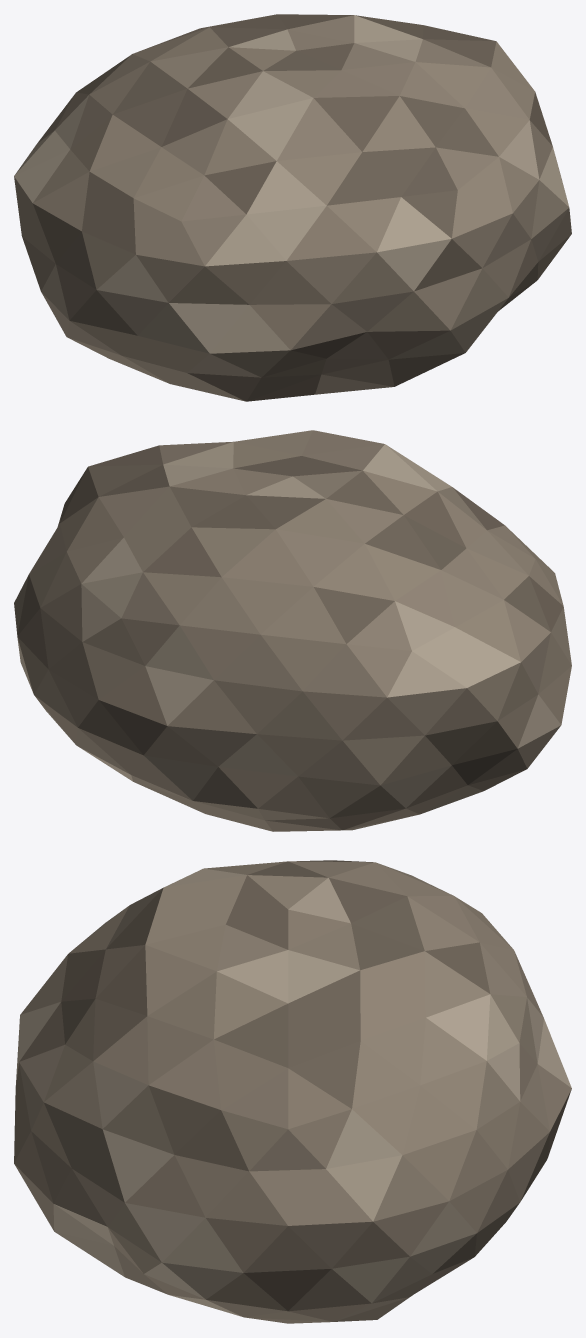
The model's file is Juno.glb.
3 renders of one model, top to bottom at view 1: azimuth 30°, elevation 25°; view 2: azimuth 150°, elevation 25°; view 3: azimuth 270°, elevation 25°, orthographic. The views are drawn at different scales.
Visible parts, largest first — view 1: Juno; view 2: Juno; view 3: Juno.
Boxes of the visible parts, box(x1,y1,x2,y2) form: Juno: box(14, 14, 571, 401); Juno: box(14, 430, 571, 831); Juno: box(14, 860, 571, 1323).
Bounding box in the file's own units: 0.6332 × 0.4046 × 0.5413.
